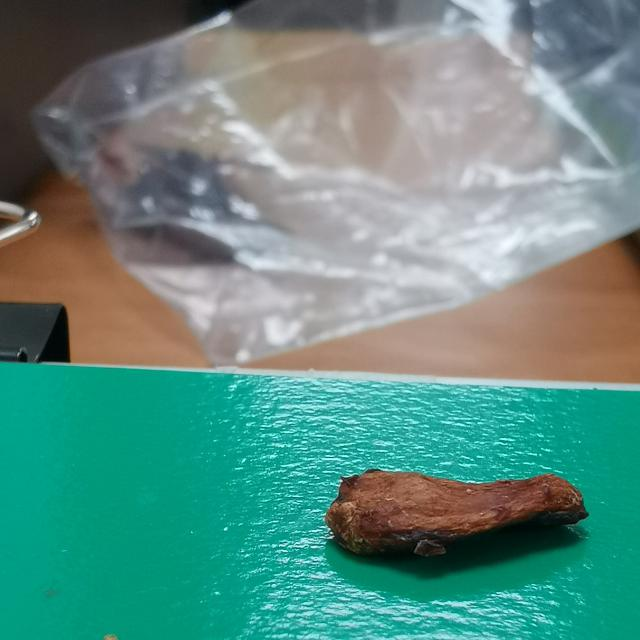Flat_cocoabeans: (258, 410, 640, 640)
